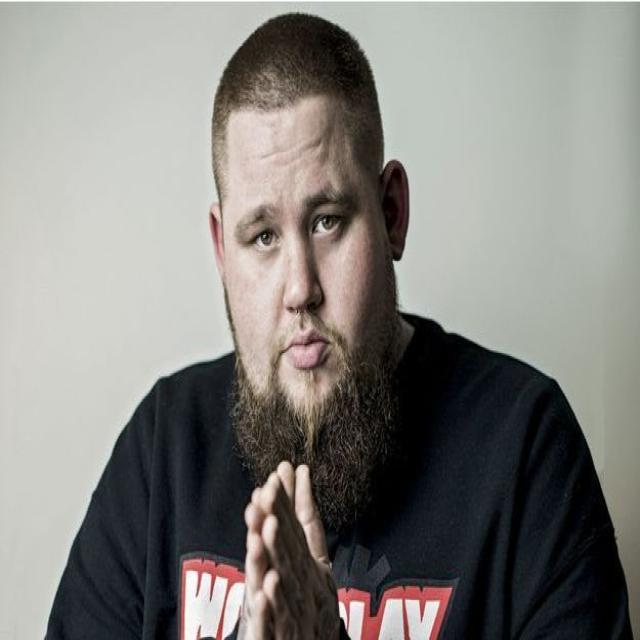human: (48, 9, 639, 640)
